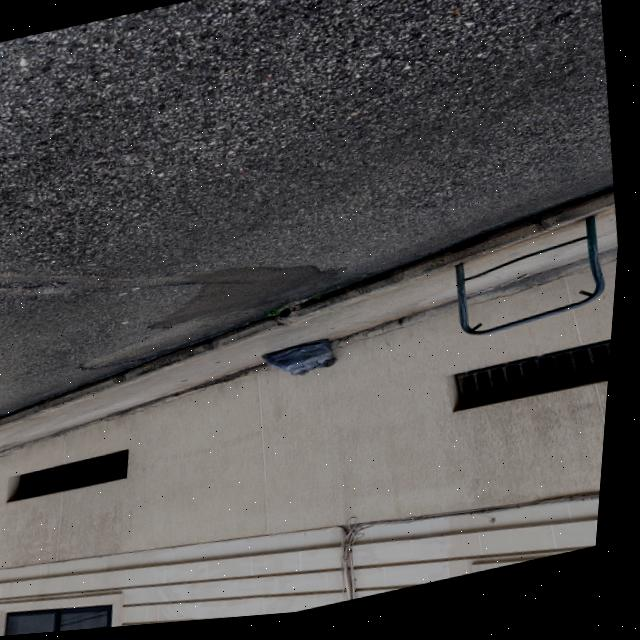Mixed Waste -Black Bag-: (262, 337, 349, 394)
